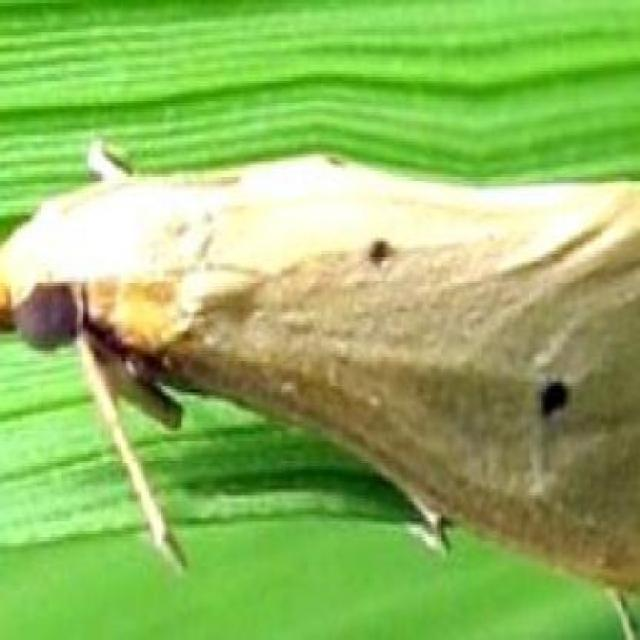stem-borer: (0, 129, 640, 640)
